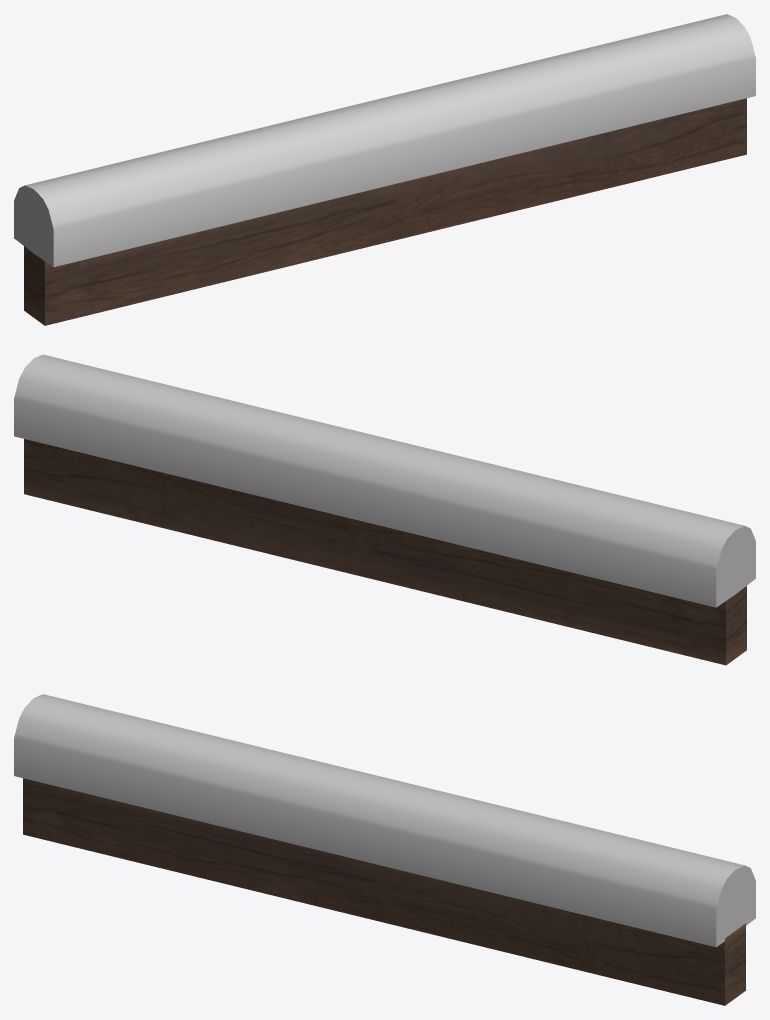
File: onikawara_b1_1t.fbx
3 views of the same model, one above another, from view 1: azimuth 30°, elevation 25°; view 2: azimuth 150°, elevation 25°; view 3: azimuth 330°, elevation 25° (orthographic).
Parts seen in each view (by area): view 1: onikawara_b1_1t; view 2: onikawara_b1_1t; view 3: onikawara_b1_1t.
Boxes of the visible parts, x1,y1,x2,y2 form: onikawara_b1_1t: (14,14,755,325); onikawara_b1_1t: (14,354,755,665); onikawara_b1_1t: (14,694,755,1005).
Bounding box in the file's own units: 220 × 38.47 × 21.56.
